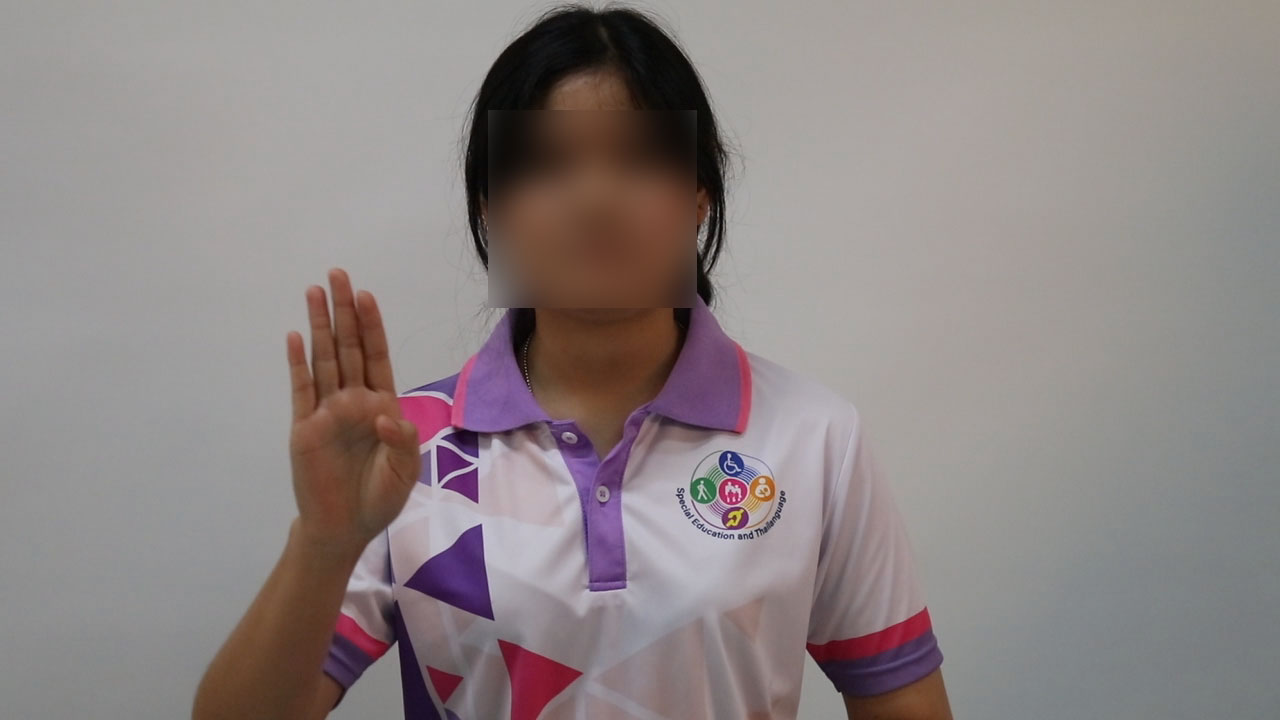bor: (275, 258, 438, 577)
